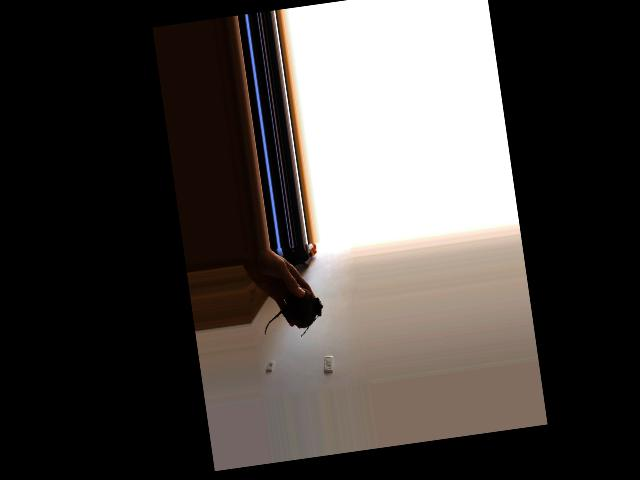beet: (258, 285, 326, 342)
